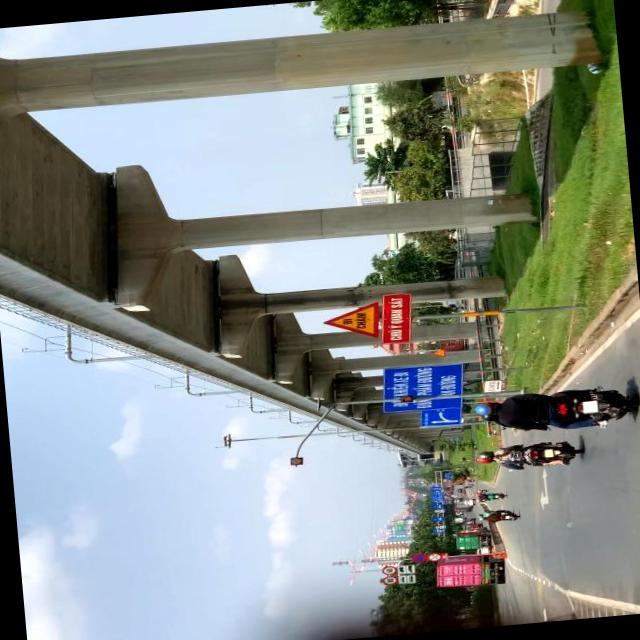W-245a: (319, 299, 379, 342)
